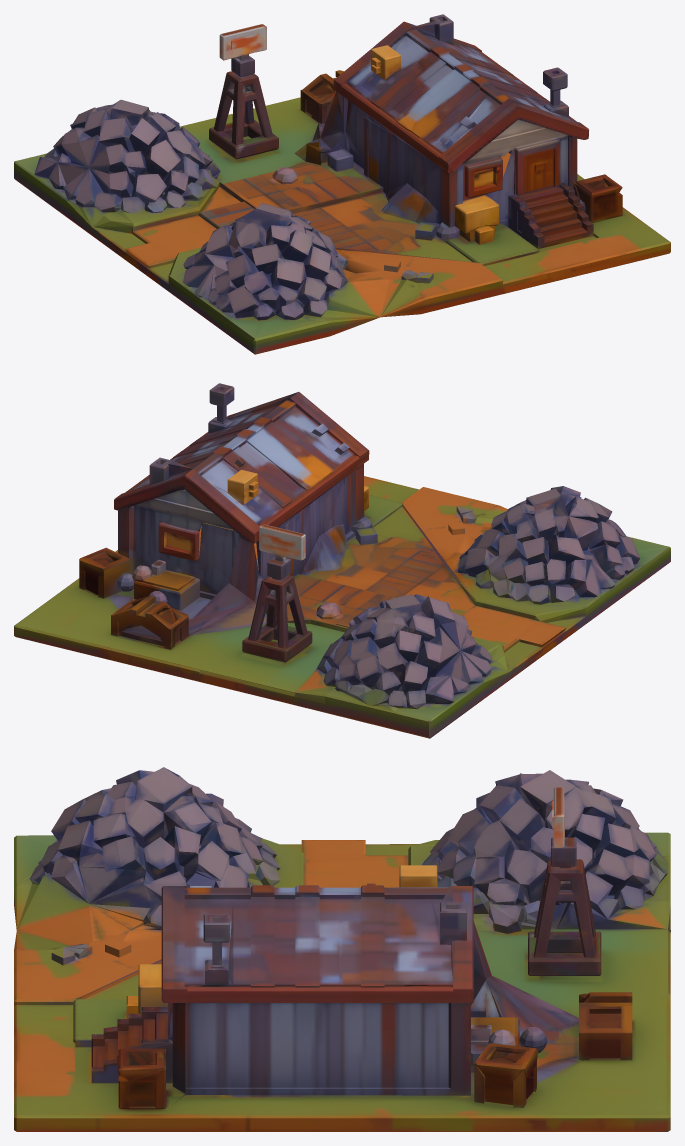
Rendered from mine.fbx.
3 renders of one model, top to bottom at view 1: azimuth 30°, elevation 25°; view 2: azimuth 150°, elevation 25°; view 3: azimuth 270°, elevation 25°, orthographic. The views are drawn at different scales.
Parts seen in each view (by area): view 1: texture_pbr_v128; view 2: texture_pbr_v128; view 3: texture_pbr_v128.
Boxes of the visible parts, box(x1,y1,x2,y2) form: texture_pbr_v128: box(14, 14, 670, 354); texture_pbr_v128: box(14, 383, 670, 738); texture_pbr_v128: box(14, 767, 670, 1131).
Size of the model in its own units: 190 by 59.79 by 190.
Materials: 1 (1 with a texture image).
